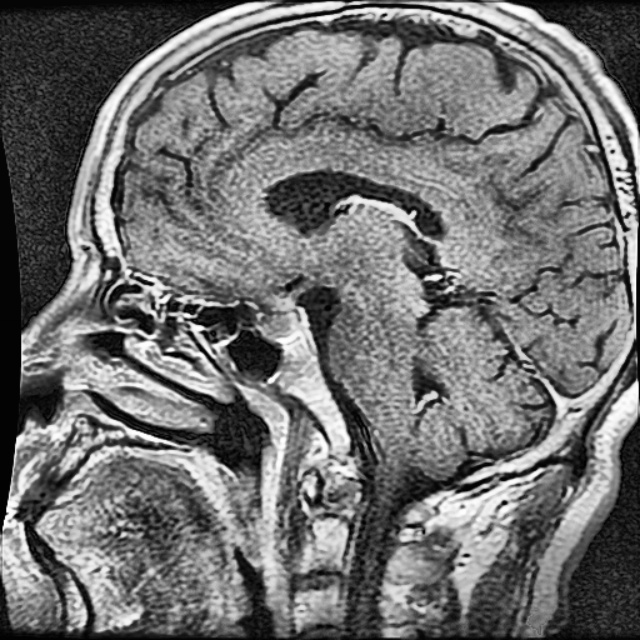Pituitary: (255, 308, 303, 340)
